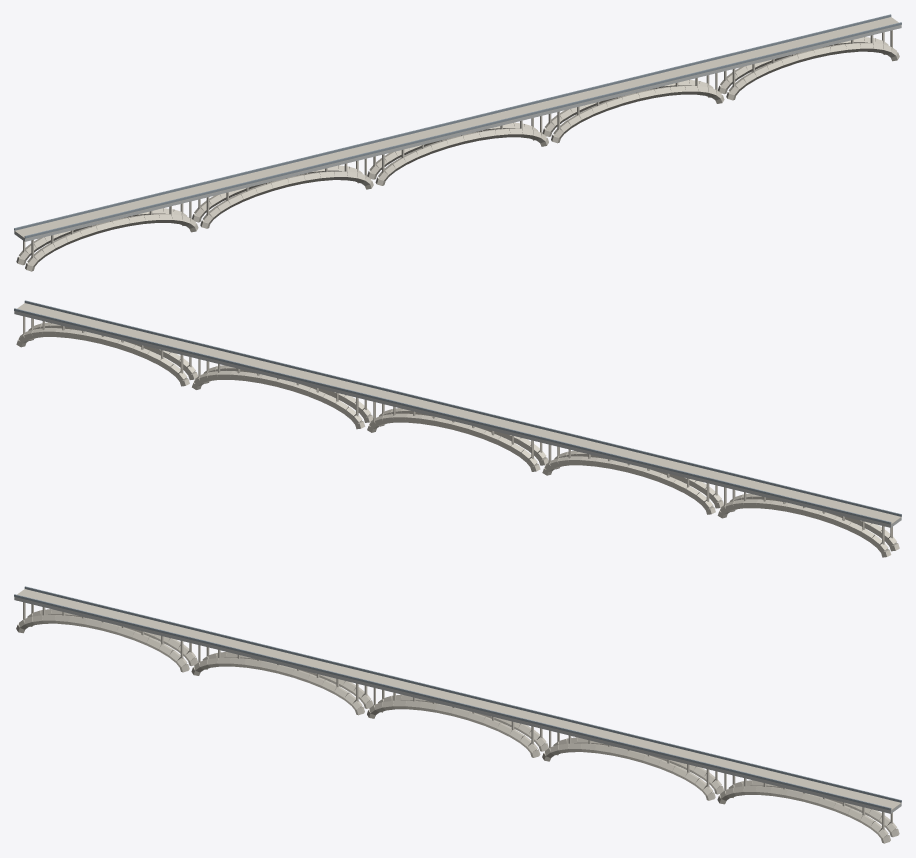
The model's file is source.glb.
3 views of the same model, one above another, from view 1: azimuth 30°, elevation 25°; view 2: azimuth 150°, elevation 25°; view 3: azimuth 330°, elevation 25° (orthographic).
Visible parts, largest first — view 1: worldgen; view 2: worldgen; view 3: worldgen.
Part boxes in pixels (<box>): worldgen: <box>14,14,901,271</box>; worldgen: <box>14,300,901,557</box>; worldgen: <box>14,586,901,843</box>.
Size of the model in its own units: 520 by 20.97 by 13.32.
